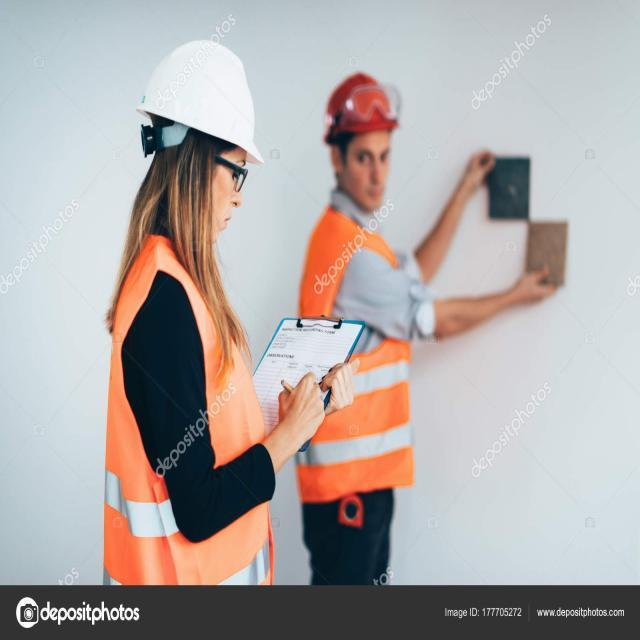helmet: (125, 46, 268, 173), (332, 70, 404, 160)
jacket: (100, 250, 270, 579), (309, 223, 427, 503)
